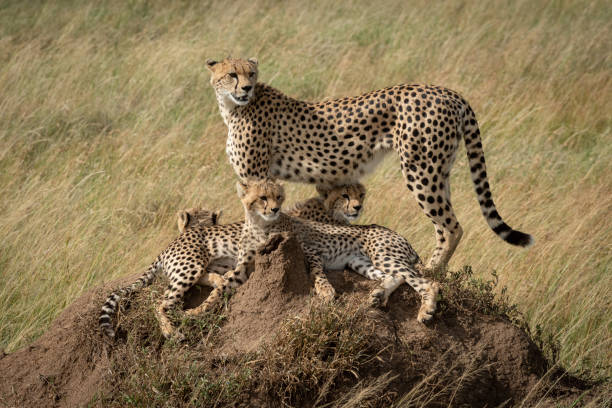cheetah: (201, 54, 262, 111)
